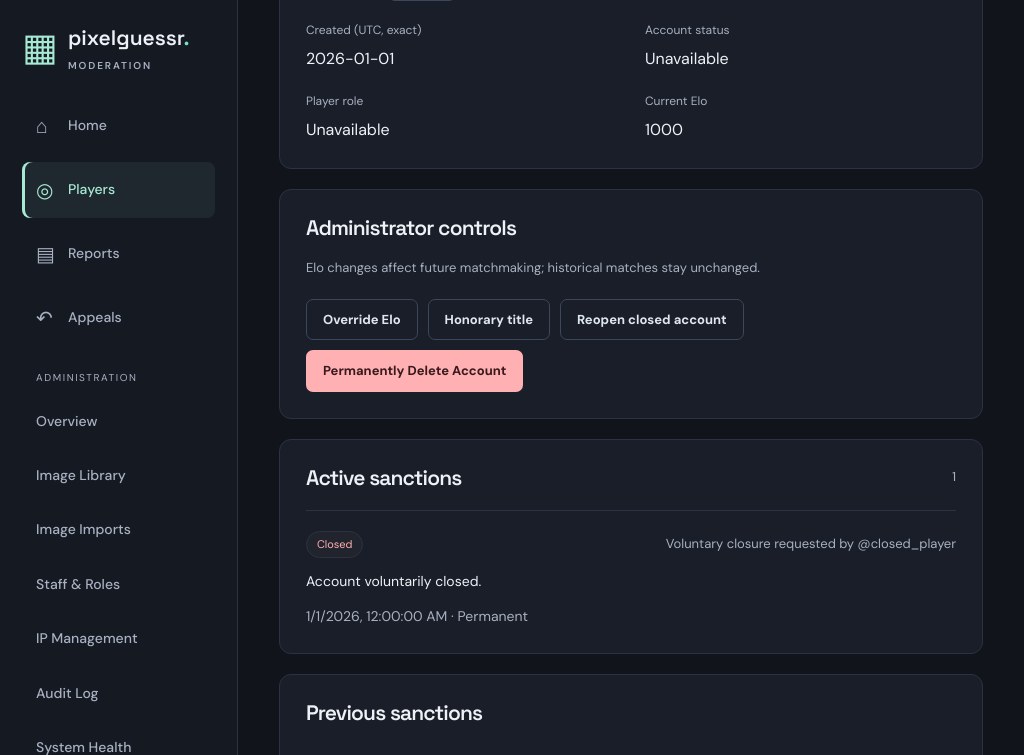
Test case: retains a clear deletion error and clears the password after rejection
The width and height of the screenshot is (1024, 755).
(page scrolled)
Click the button "Permanently Delete Account".
click(415, 371)  # box [306, 350, 523, 392]
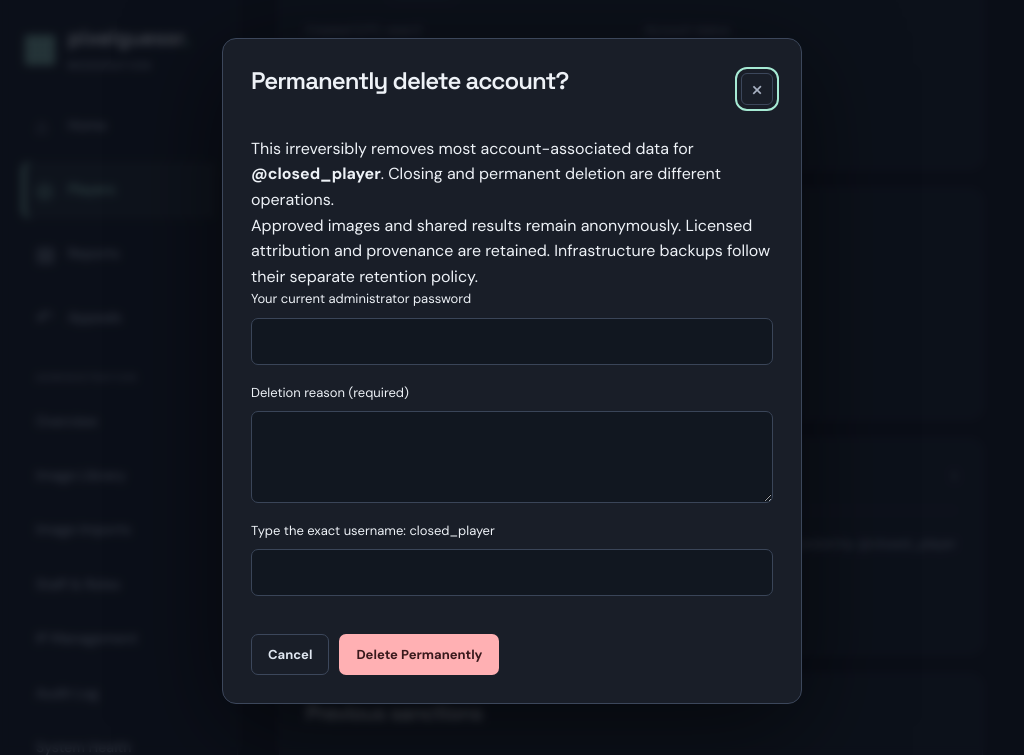
Type "incorrect" into the password field labelled "Your current administrator password".
click(512, 341); type("incorrect")  # box [251, 318, 773, 365]
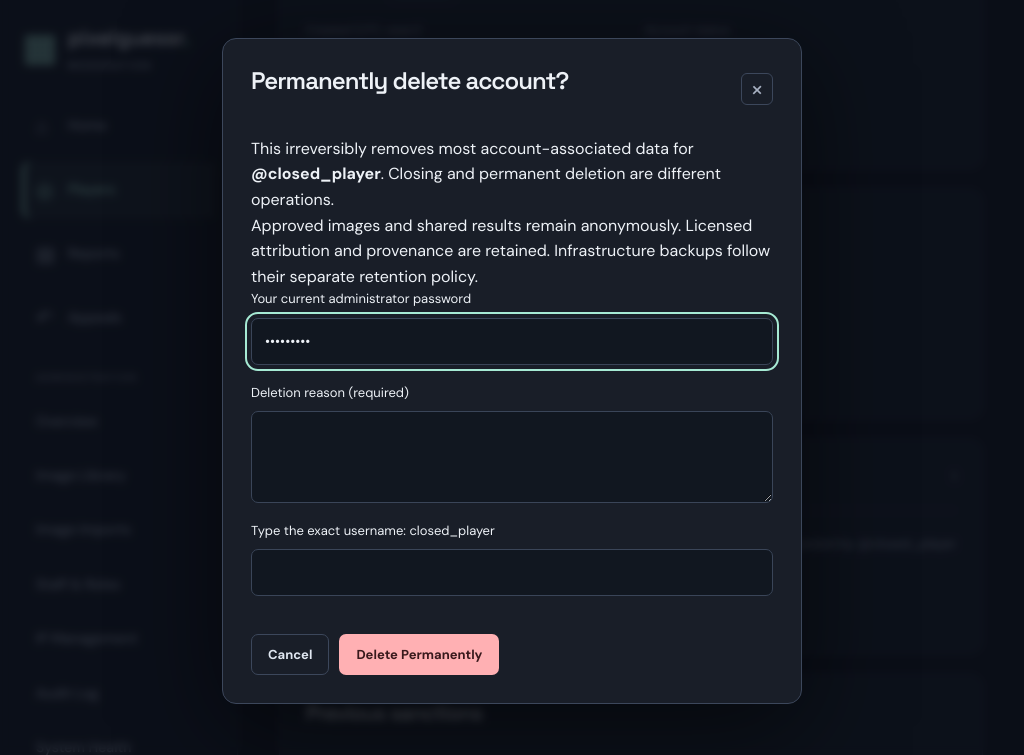
Type "Requested erasure" into the text box labelled "Deletion reason (required)".
click(512, 457); type("Requested erasure")  # box [251, 411, 773, 503]
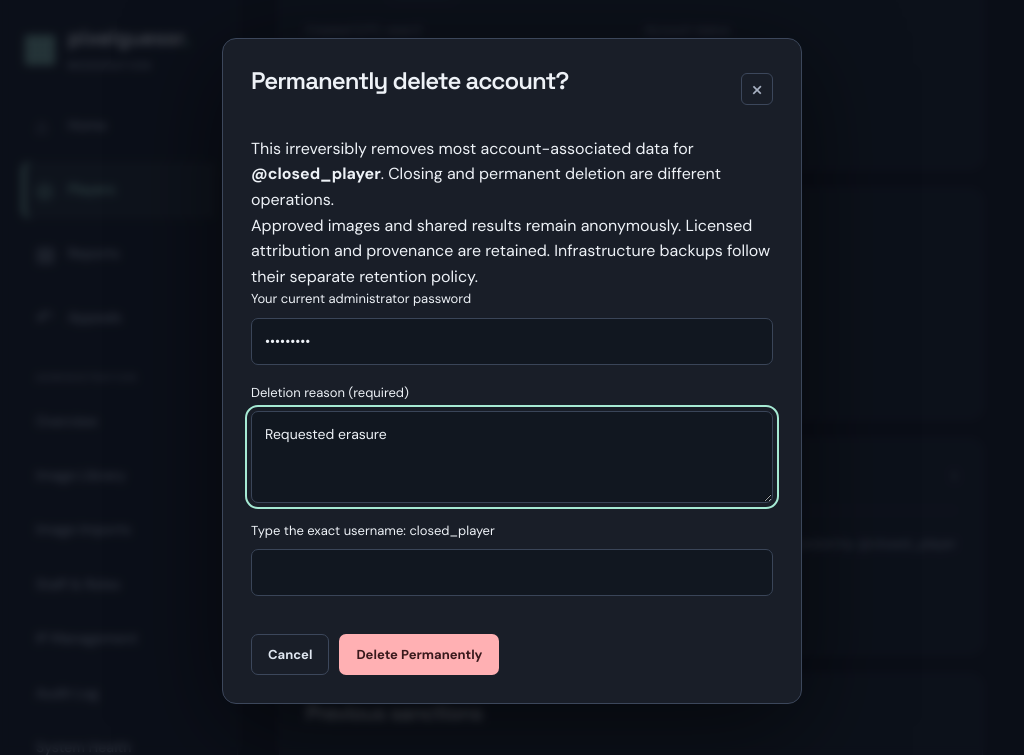
Type "closed_player" into the field labelled "Type the exact username: closed_player".
click(512, 573); type("closed_player")  # box [251, 549, 773, 596]
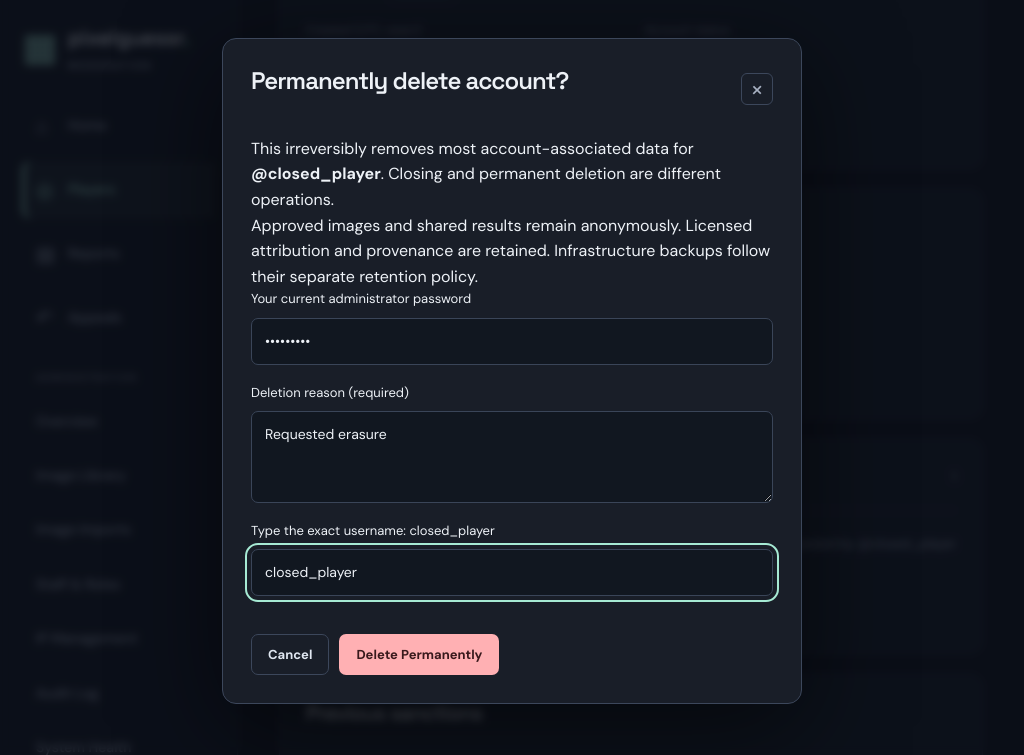
Click the button "Delete Permanently".
click(419, 655)  # box [339, 634, 499, 675]
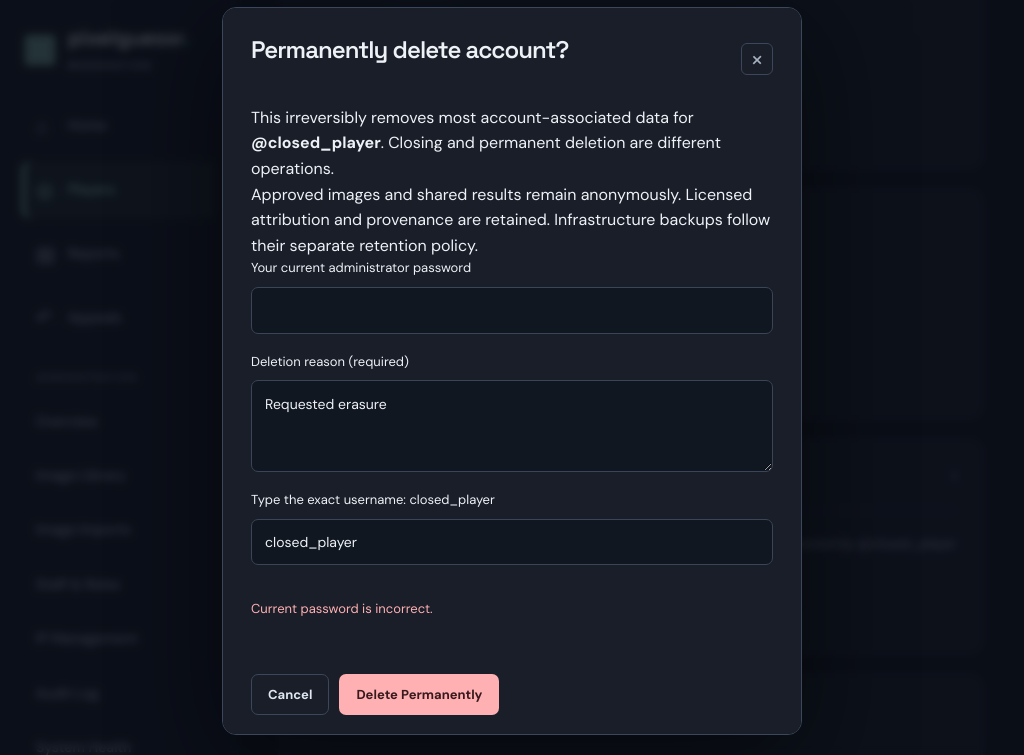
Expected: the message "Current password is incorrect." is shown, [251, 600, 433, 617]
Expected: the password field labelled "Your current administrator password" is empty, [251, 288, 773, 334]
